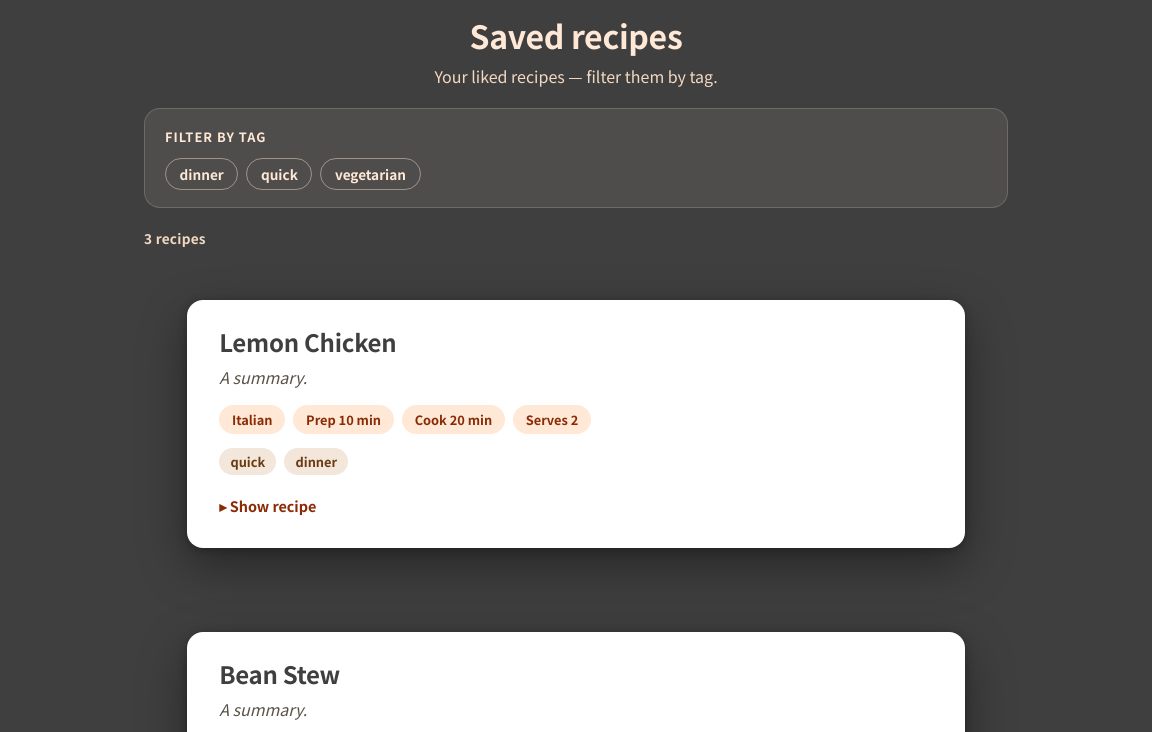
SavedRecipesPage › filters the list by all selected tags (AND)
Select "vegetarian" → Bean Stew + Fruit Salad.
Click the button "vegetarian" at [371, 174], box [320,158,421,190]
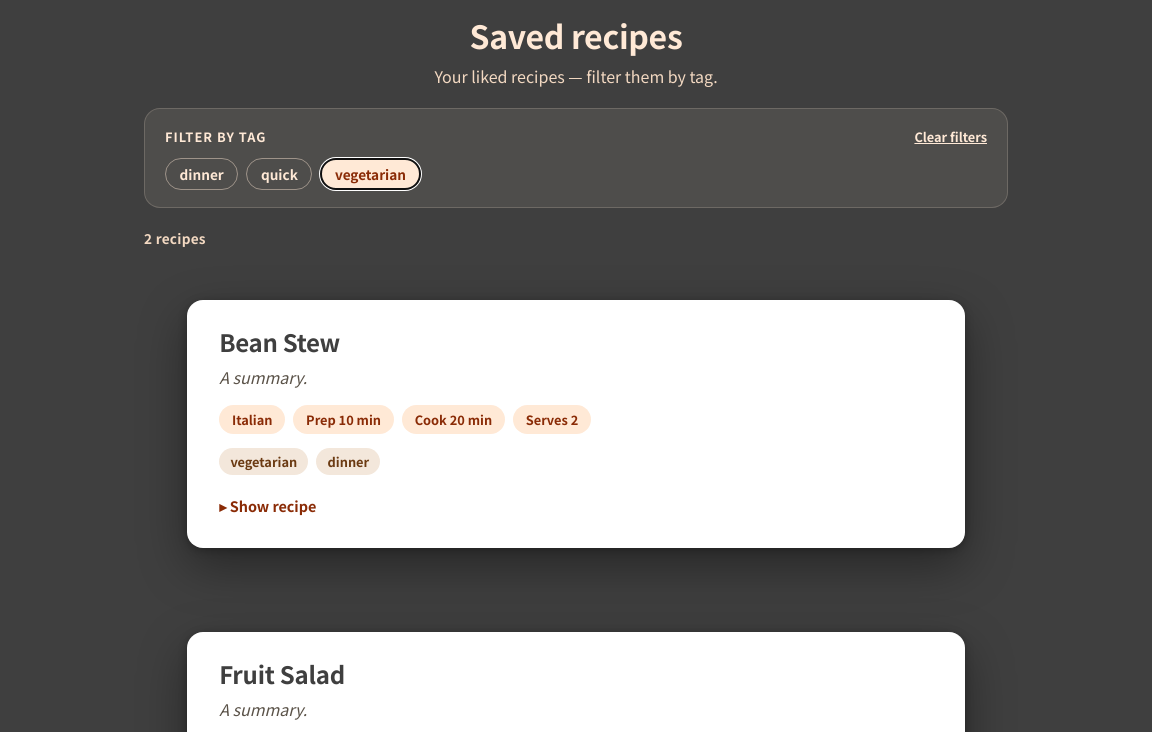
Expected: the heading "Bean Stew" is shown, [219,324,340,359]
Expected: the heading "Lemon Chicken" is gone
Add "quick" → only Fruit Salad has both.
Click the button "quick" at [279, 174], box [246,158,312,190]
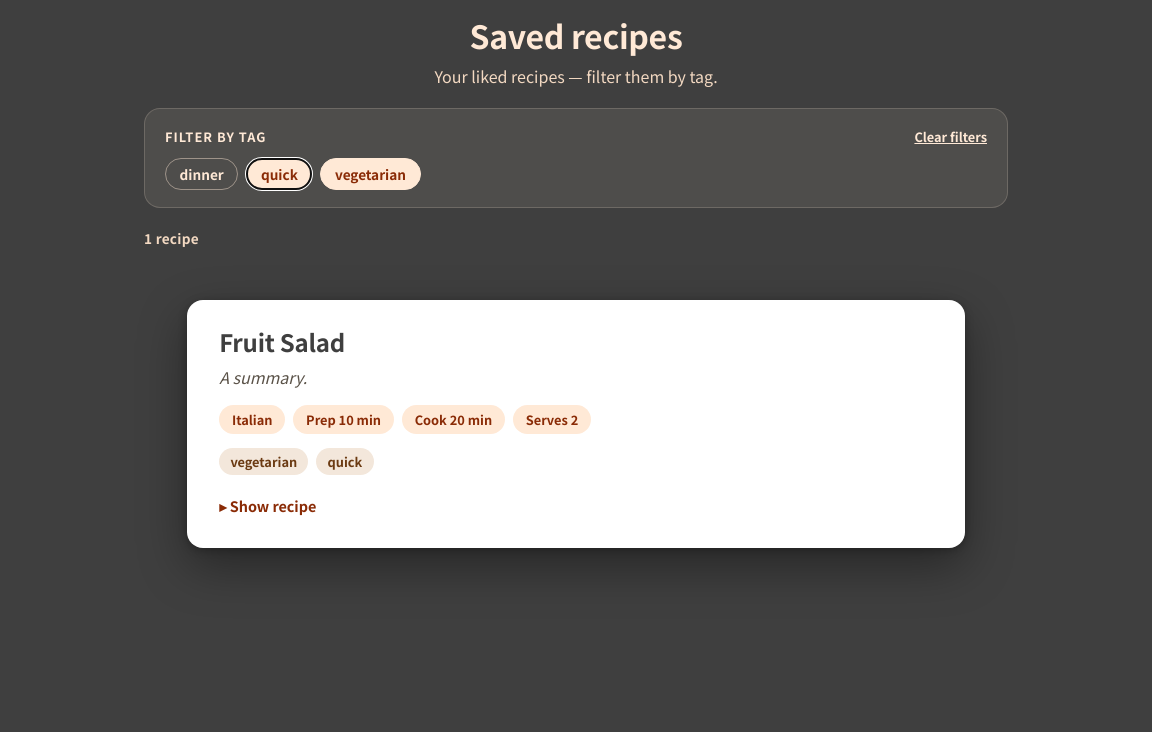
Expected: the heading "Fruit Salad" is shown, [219,324,345,359]
Expected: the heading "Bean Stew" is gone
